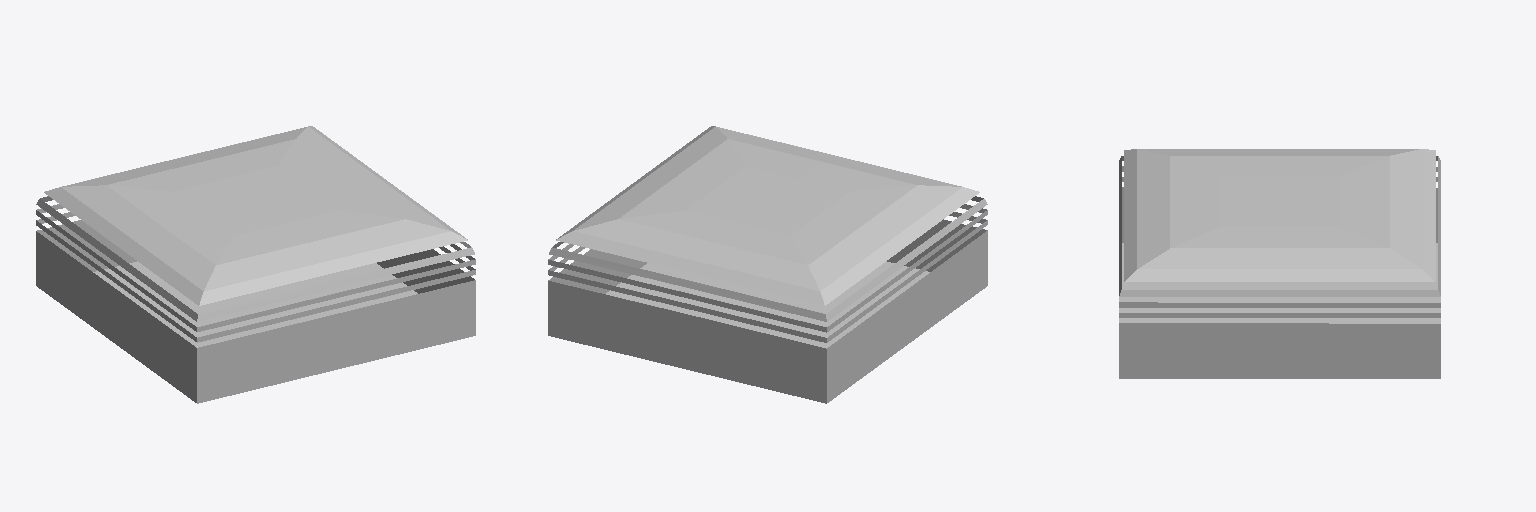
File: Arena.obj
3 renders of one model, left to right at view 1: azimuth 30°, elevation 25°; view 2: azimuth 150°, elevation 25°; view 3: azimuth 270°, elevation 25°, orthographic.
Parts seen in each view (by area): view 1: Cube; view 2: Cube; view 3: Cube.
Boxes of the visible parts, x1=… form: Cube: x1=36, y1=126, x2=475, y2=403; Cube: x1=548, y1=126, x2=987, y2=403; Cube: x1=1119, y1=149, x2=1440, y2=378.
Size of the model in its own units: 49.05 by 18.5 by 49.05.